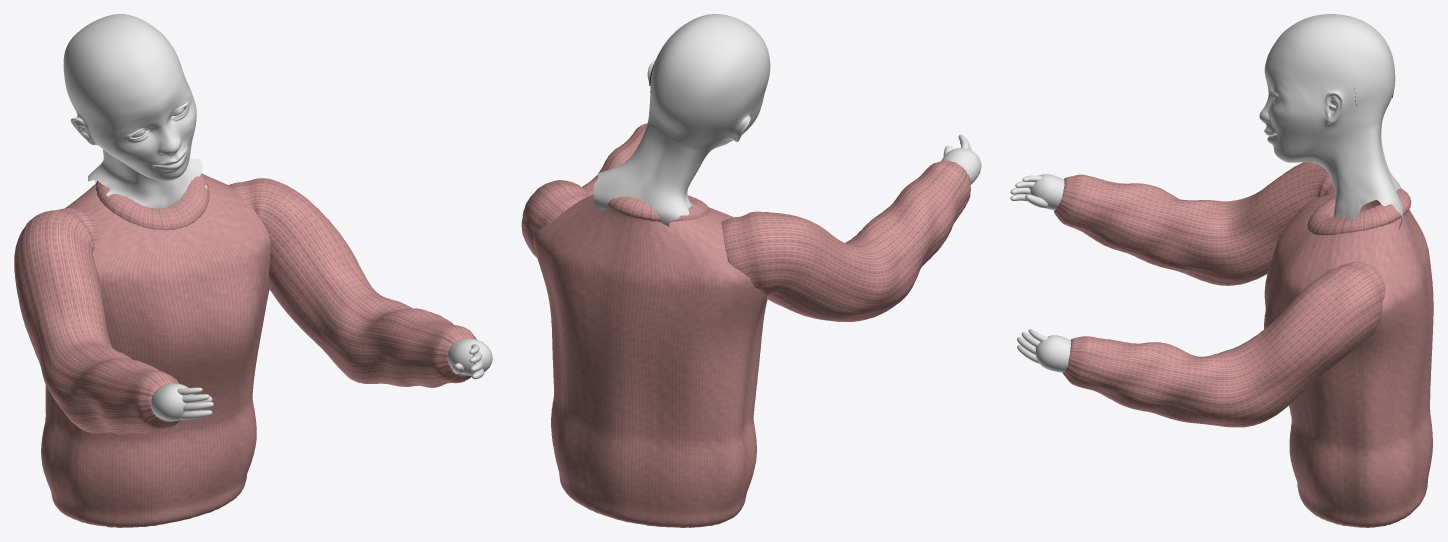
File: character.glb
The picture shows the model from 3 angles, left to right: view 1: azimuth 30°, elevation 25°; view 2: azimuth 150°, elevation 25°; view 3: azimuth 270°, elevation 25°; orthographic projection. The views are drawn at different scales.
Visible parts, largest first — view 1: Sweater_Torso, Sweater_Sleeve_L, Sweater_Sleeve_R, Character_Head_Neck, Sweater_Collar, Character_Hand_R, Character_Hand_L; view 2: Sweater_Torso, Sweater_Sleeve_R, Character_Head_Neck, Sweater_Sleeve_L, Sweater_Collar, Character_Hand_R; view 3: Sweater_Torso, Sweater_Sleeve_L, Character_Head_Neck, Sweater_Sleeve_R, Sweater_Collar, Character_Hand_L, Character_Hand_R.
Part boxes in pixels (<box>): Sweater_Torso: <box>41,173,270,527</box>; Sweater_Sleeve_L: <box>228,178,476,387</box>; Sweater_Sleeve_R: <box>14,208,179,434</box>; Character_Head_Neck: <box>63,14,207,208</box>; Sweater_Collar: <box>95,173,209,230</box>; Character_Hand_R: <box>151,383,213,421</box>; Character_Hand_L: <box>447,338,492,379</box>; Sweater_Torso: <box>533,195,767,527</box>; Sweater_Sleeve_R: <box>721,160,970,321</box>; Character_Head_Neck: <box>593,14,770,226</box>; Sweater_Sleeve_L: <box>521,123,646,257</box>; Sweater_Collar: <box>608,195,709,221</box>; Character_Hand_R: <box>941,134,981,184</box>; Sweater_Torso: <box>1264,193,1433,527</box>; Sweater_Sleeve_L: <box>1062,261,1385,427</box>; Character_Head_Neck: <box>1259,14,1403,228</box>; Sweater_Sleeve_R: <box>1054,162,1380,285</box>; Sweater_Collar: <box>1307,188,1411,235</box>; Character_Hand_L: <box>1017,329,1071,372</box>; Character_Hand_R: <box>1010,174,1064,210</box>.
Size of the model in its own units: 0.5536 by 0.7396 by 0.6257.
8 materials, 4 textured.
